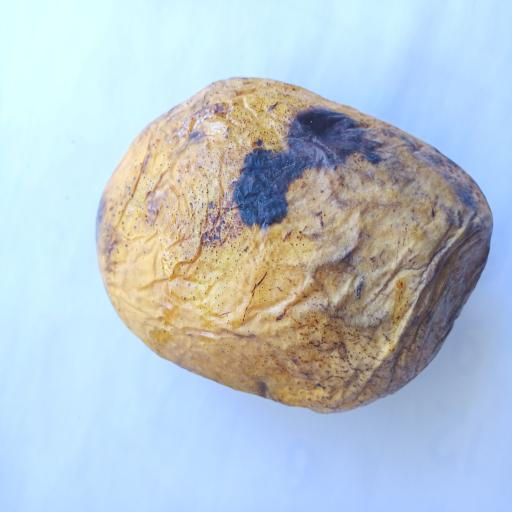mango-overripe: (89, 73, 498, 419)
